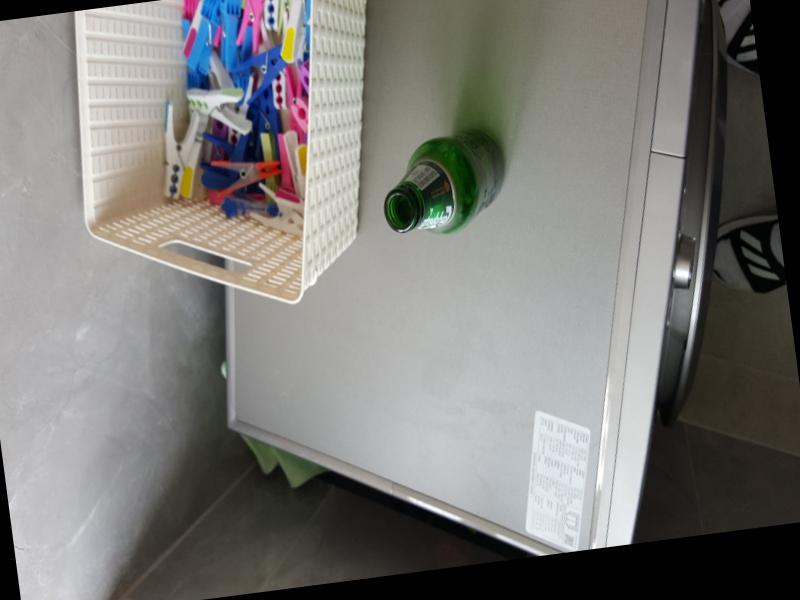Beer: (377, 127, 514, 235)
